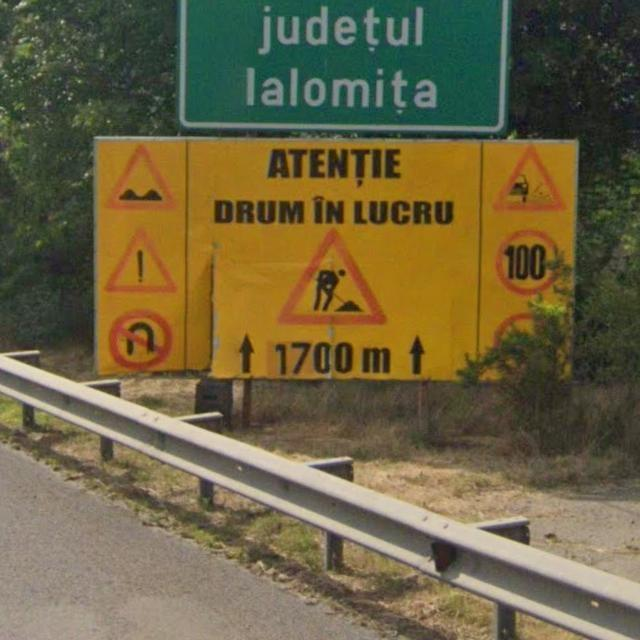forb_speed_over_100: (494, 230, 561, 294)
